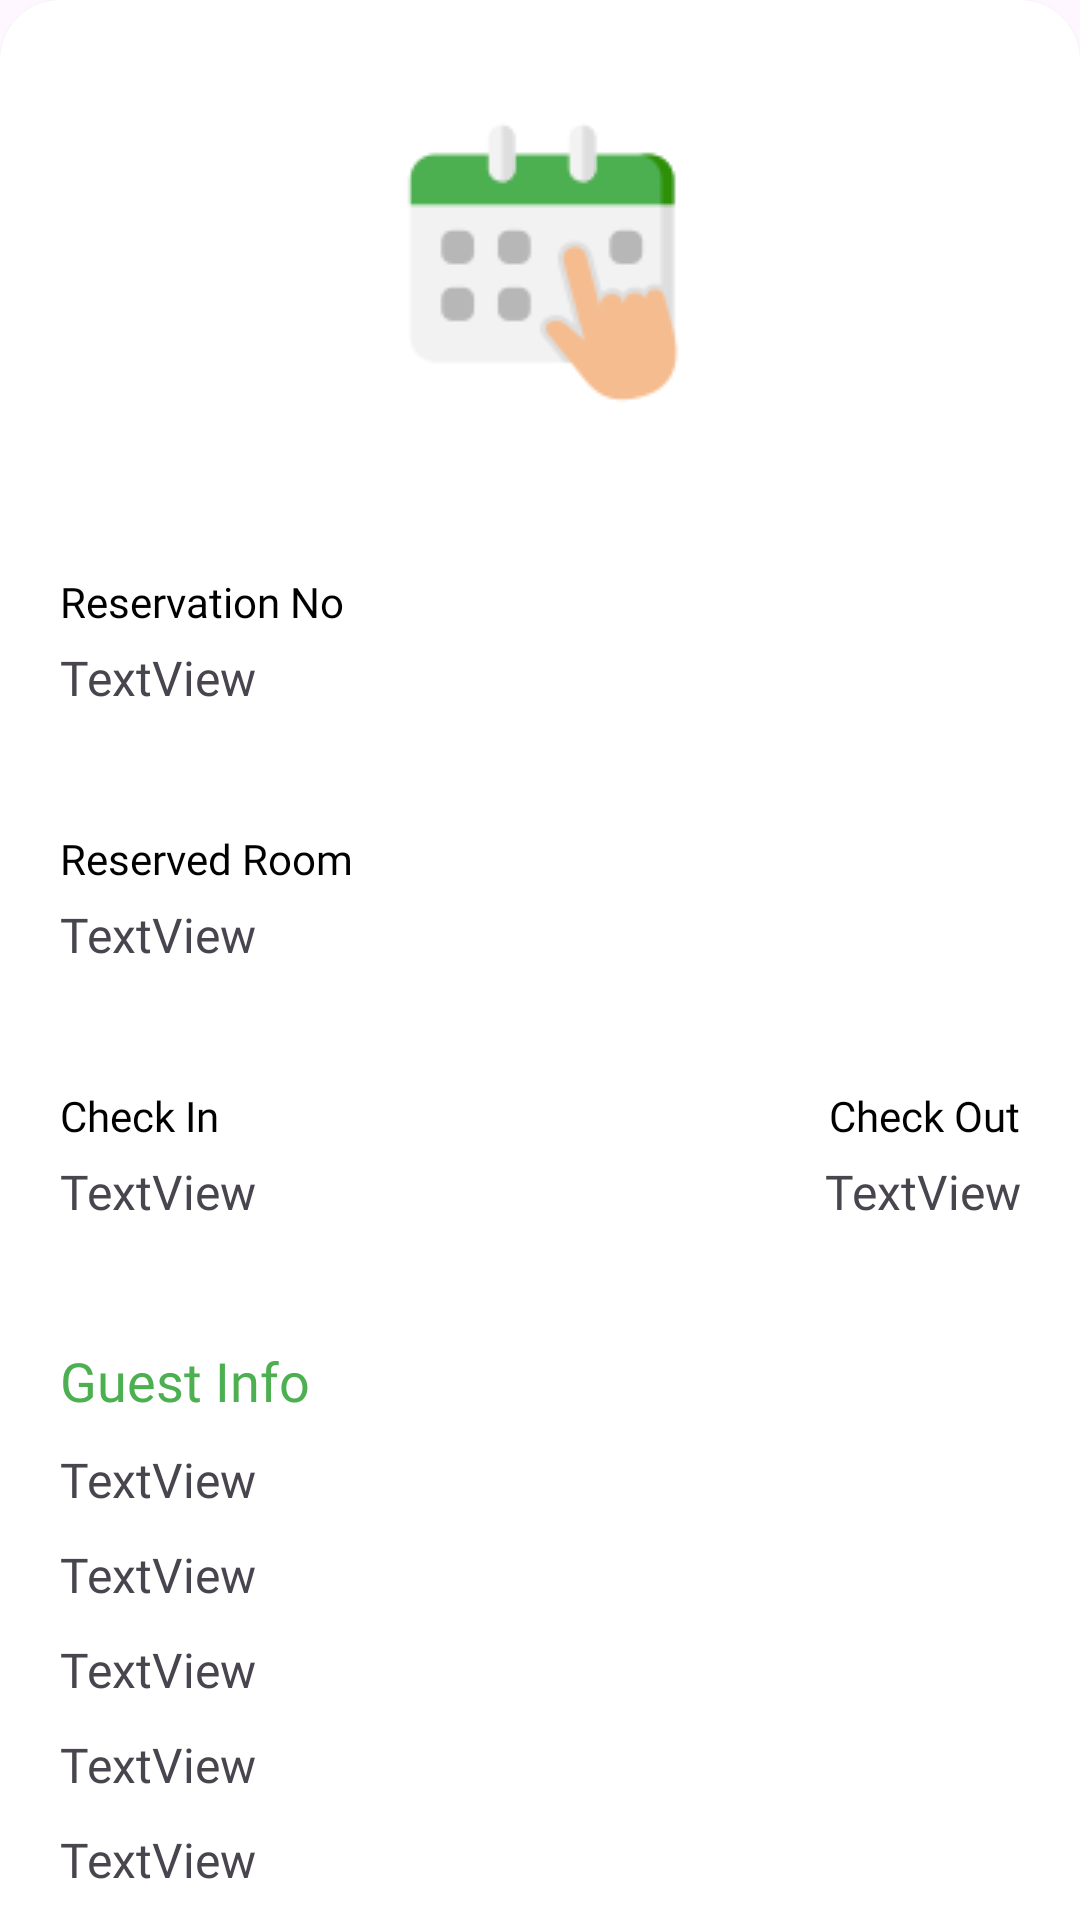

Named icons in this screenshot (1080px x 1920px) and their centers, (x,y):
booking: (543,263)
